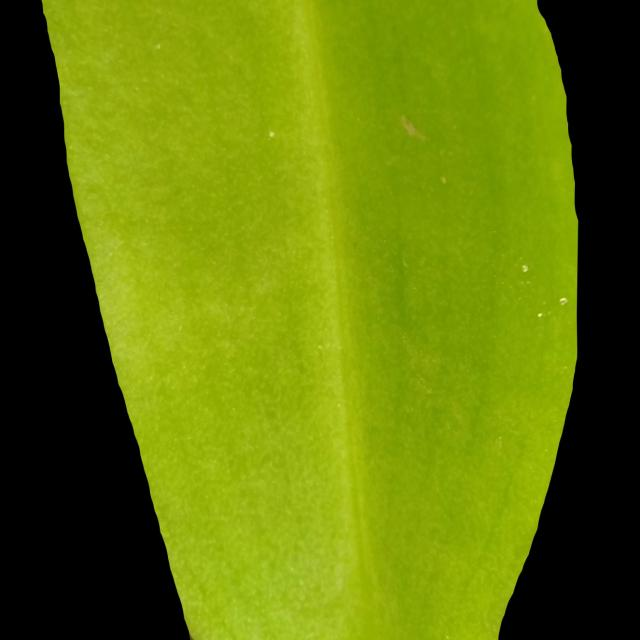mite: (512, 257, 571, 322), (533, 293, 570, 321), (511, 254, 538, 289), (515, 258, 533, 278), (554, 291, 572, 311), (532, 306, 549, 322), (557, 295, 569, 307), (519, 262, 530, 275), (438, 173, 448, 186), (535, 309, 545, 320)
spots: (41, 1, 580, 637)
